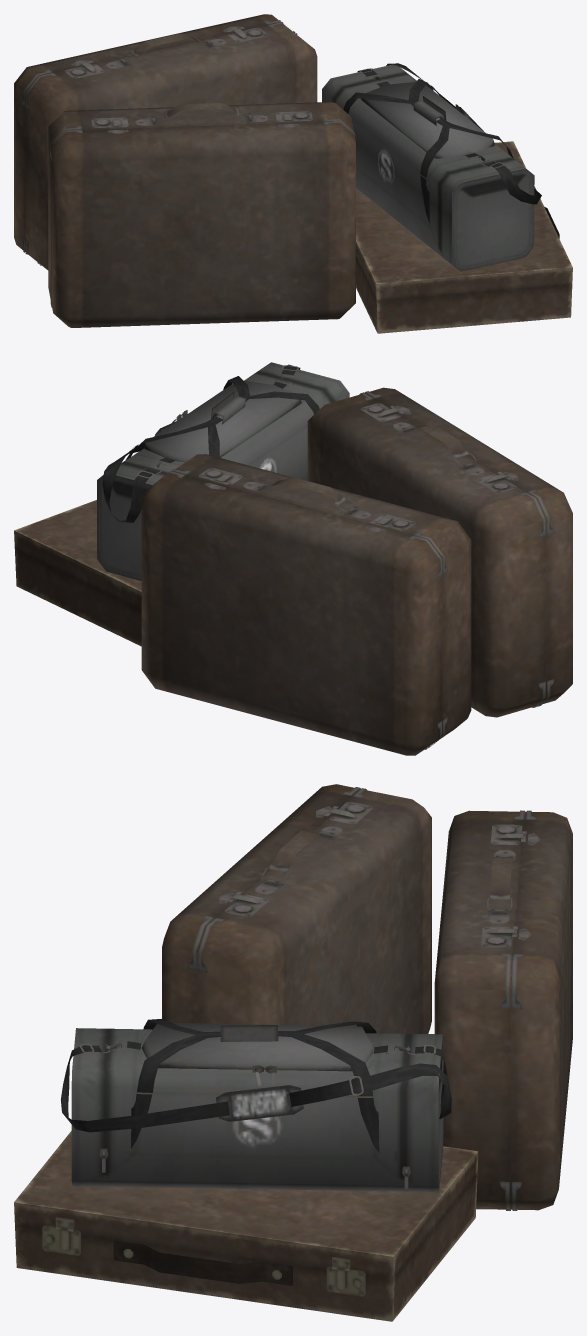
Rendered from ItemSpot.fbx.
The picture shows the model from 3 angles, top to bottom: view 1: azimuth 30°, elevation 25°; view 2: azimuth 150°, elevation 25°; view 3: azimuth 270°, elevation 25°; orthographic projection. The views are drawn at different scales.
Visible parts, largest first — view 1: ItemBox_Suitcase_01 (×2), ItemBox_Bag_01, ItemBox_Suitcase_03; view 2: ItemBox_Suitcase_01 (×2), ItemBox_Bag_01, ItemBox_Suitcase_03; view 3: ItemBox_Suitcase_01 (×2), ItemBox_Bag_01, ItemBox_Suitcase_03.
Boxes of the visible parts, <box> form: ItemBox_Suitcase_01 (×2): <box>14,14,355,327</box>; ItemBox_Bag_01: <box>322,63,541,271</box>; ItemBox_Suitcase_03: <box>356,141,572,333</box>; ItemBox_Suitcase_01 (×2): <box>141,387,572,755</box>; ItemBox_Bag_01: <box>97,362,349,580</box>; ItemBox_Suitcase_03: <box>14,500,141,646</box>; ItemBox_Suitcase_01 (×2): <box>162,784,572,1210</box>; ItemBox_Bag_01: <box>61,1018,451,1192</box>; ItemBox_Suitcase_03: <box>14,1131,478,1321</box>.
Size of the model in its own units: 1.8 by 0.724 by 1.38.
Materials: 1 (1 with a texture image).
